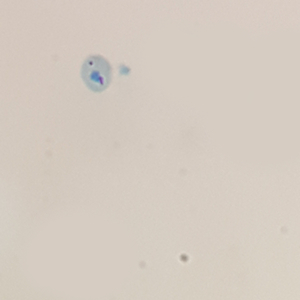erythrocyte: (79, 53, 115, 95)
